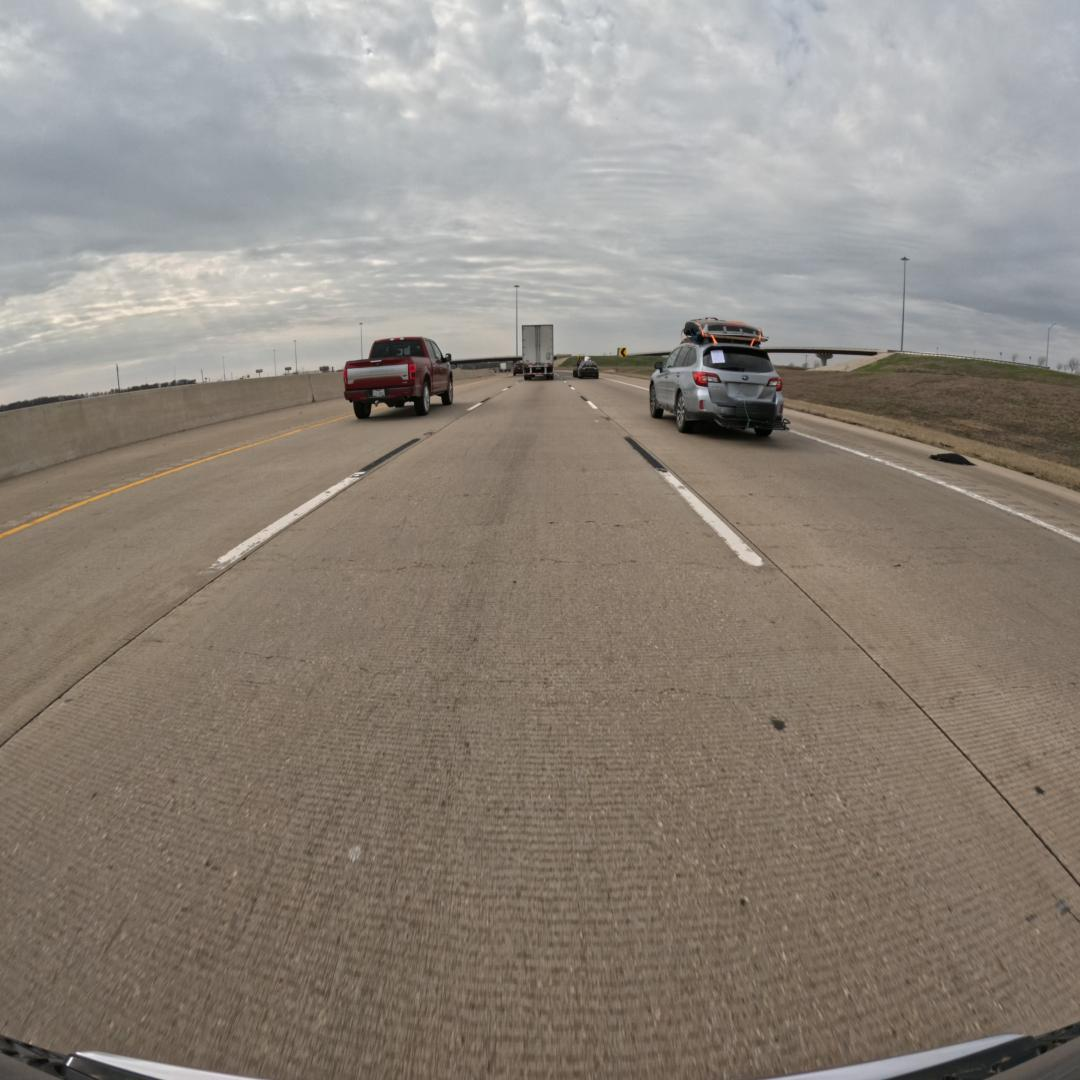lane-1: (570, 377, 1080, 882)
lane0: (0, 383, 1080, 1076)
lane1: (0, 377, 518, 745)
